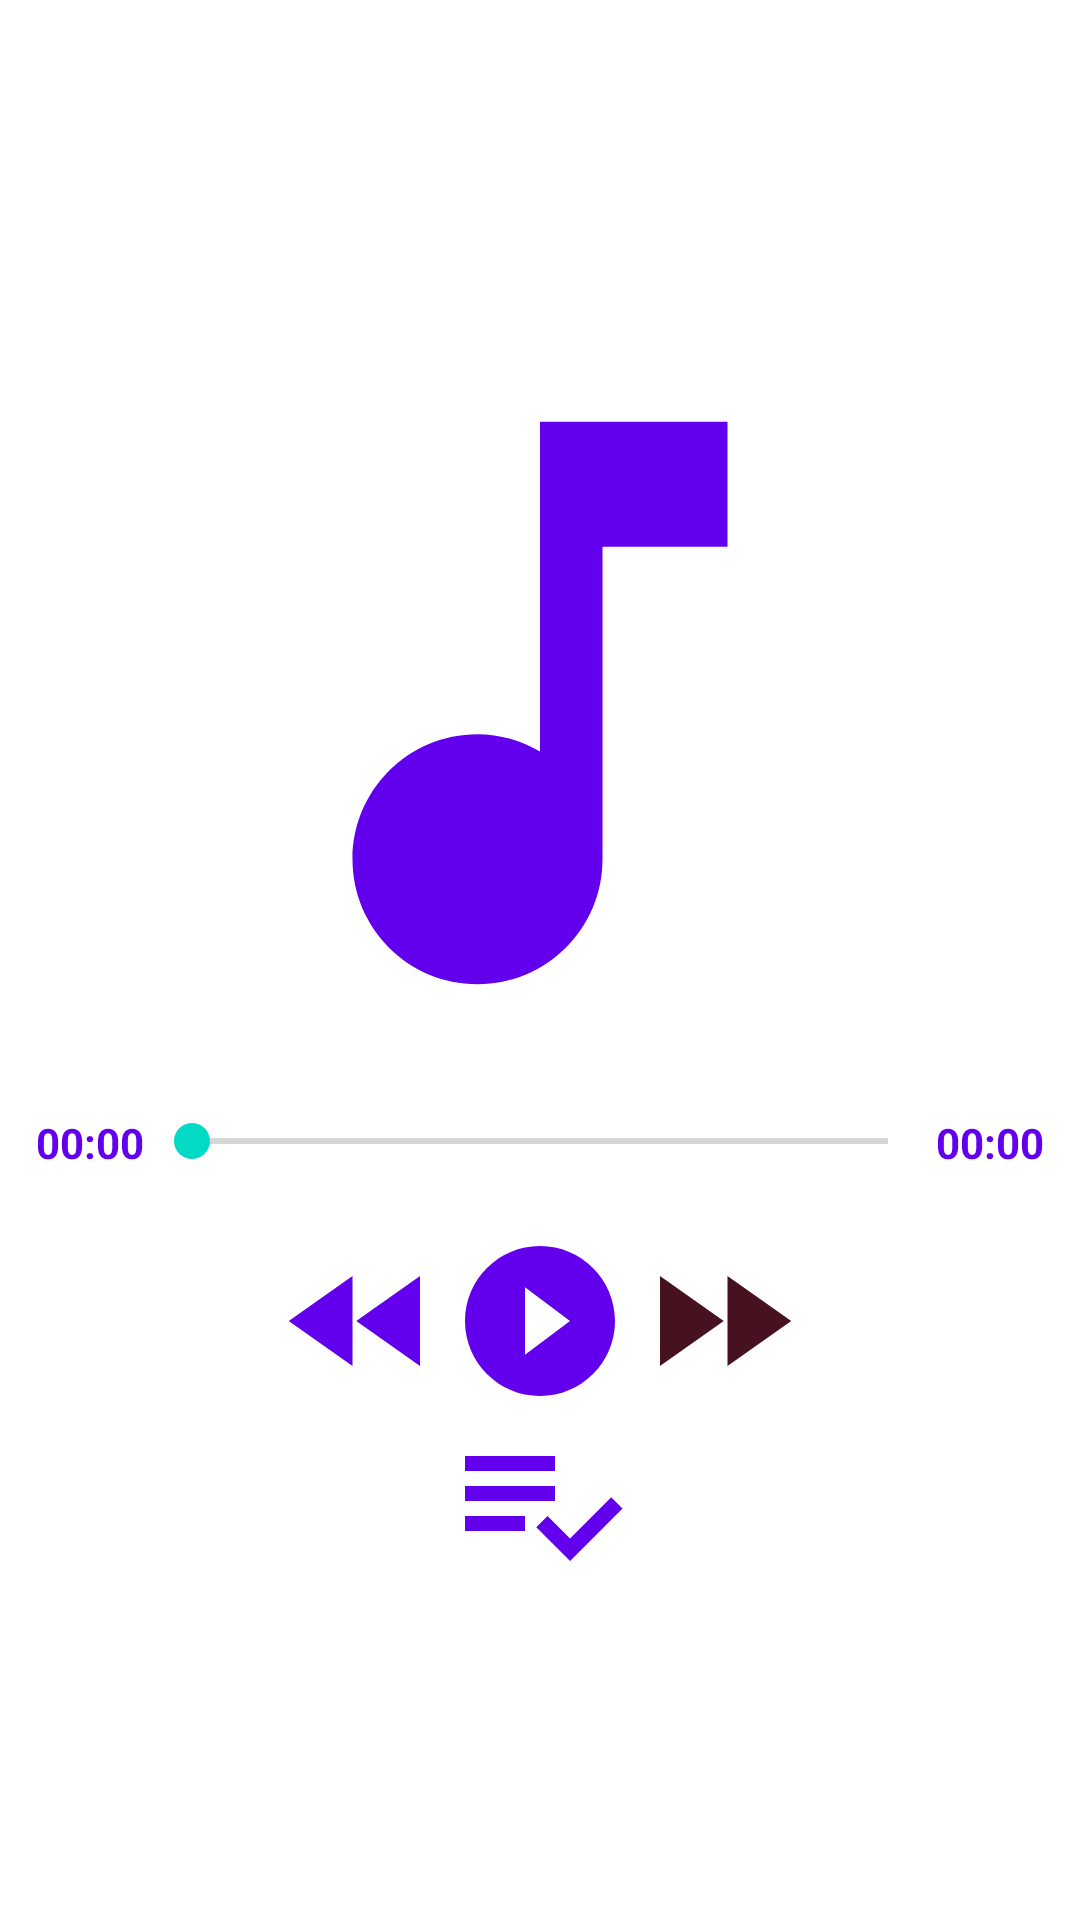

Where to tap for icons on this 1080*1920 app screen, as (x,y):
fast forward: (725,1321)
fast rewind: (354,1321)
play circle: (540,1321)
playlist add check: (544,1508)
